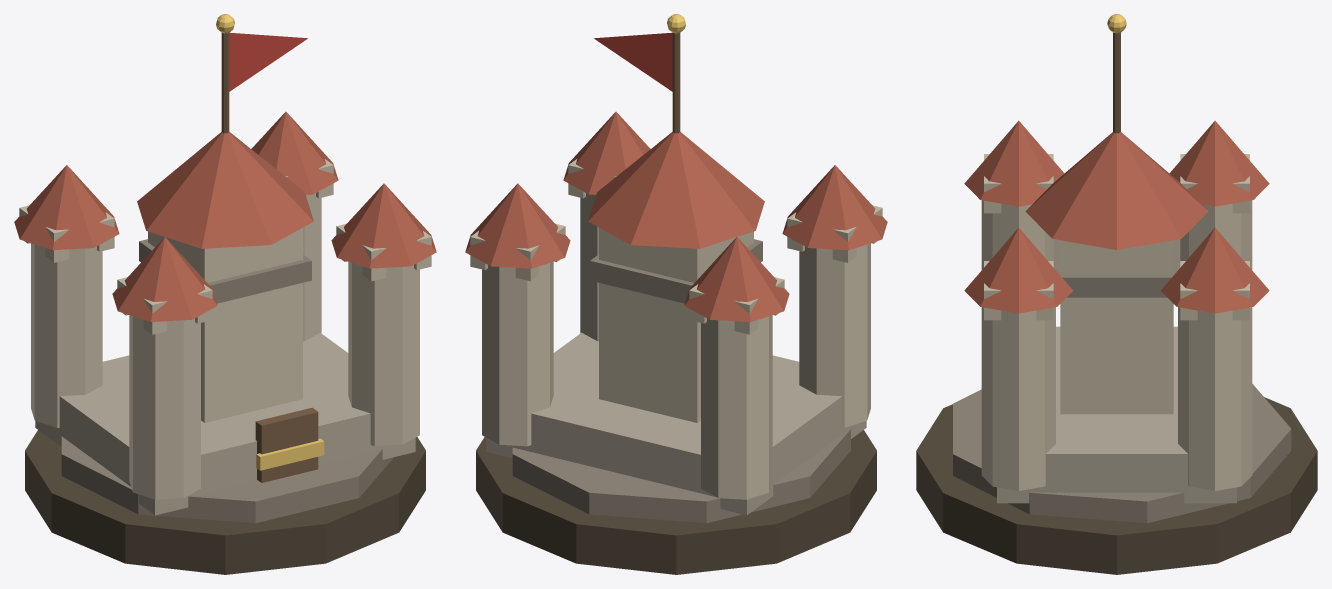
The model's file is marker_castle.glb.
The picture shows the model from 3 angles, left to right: view 1: azimuth 30°, elevation 25°; view 2: azimuth 150°, elevation 25°; view 3: azimuth 270°, elevation 25°; orthographic projection.
Visible parts, largest first — view 1: Castle_Base, Castle_Courtyard, Castle_Keep, Castle_KeepRoof, Castle_Tower_0, Castle_Tower_1, Castle_Tower_2, Castle_Rock, Castle_TowerRoof_0, Castle_TowerRoof_1, Castle_TowerRoof_2, Castle_TowerRoof_3 (+6 smaller); view 2: Castle_Base, Castle_Courtyard, Castle_Keep, Castle_KeepRoof, Castle_Tower_2, Castle_Tower_3, Castle_Tower_0, Castle_Rock, Castle_TowerRoof_2, Castle_TowerRoof_3, Castle_TowerRoof_0, Castle_TowerRoof_1 (+4 smaller); view 3: Castle_Base, Castle_Keep, Castle_KeepRoof, Castle_Courtyard, Castle_Tower_1, Castle_Tower_3, Castle_Rock, Castle_TowerRoof_1, Castle_TowerRoof_3, Castle_TowerRoof_0, Castle_TowerRoof_2, Castle_KeepBand (+3 smaller).
Boxes of the visible parts, left/top/right/bottom form: Castle_Base: left=25, top=430, right=425, bottom=574; Castle_Courtyard: left=35, top=332, right=415, bottom=515; Castle_Keep: left=148, top=228, right=302, bottom=422; Castle_KeepRoof: left=137, top=132, right=313, bottom=248; Castle_Tower_0: left=129, top=315, right=200, bottom=499; Castle_Tower_1: left=348, top=261, right=419, bottom=446; Castle_Tower_2: left=31, top=243, right=102, bottom=427; Castle_Rock: left=61, top=436, right=393, bottom=523; Castle_TowerRoof_0: left=112, top=237, right=217, bottom=321; Castle_TowerRoof_1: left=331, top=183, right=436, bottom=268; Castle_TowerRoof_2: left=14, top=165, right=119, bottom=250; Castle_TowerRoof_3: left=251, top=111, right=338, bottom=194; Castle_Base: left=476, top=430, right=876, bottom=574; Castle_Courtyard: left=486, top=332, right=866, bottom=515; Castle_Keep: left=599, top=228, right=753, bottom=422; Castle_KeepRoof: left=588, top=132, right=764, bottom=248; Castle_Tower_2: left=701, top=315, right=772, bottom=499; Castle_Tower_3: left=482, top=261, right=553, bottom=446; Castle_Tower_0: left=799, top=243, right=870, bottom=427; Castle_Rock: left=512, top=428, right=850, bottom=523; Castle_TowerRoof_2: left=684, top=237, right=789, bottom=321; Castle_TowerRoof_3: left=465, top=183, right=570, bottom=268; Castle_TowerRoof_0: left=782, top=165, right=887, bottom=250; Castle_TowerRoof_1: left=563, top=111, right=650, bottom=194; Castle_Base: left=916, top=397, right=1317, bottom=574; Castle_Keep: left=1060, top=240, right=1173, bottom=414; Castle_KeepRoof: left=1025, top=132, right=1208, bottom=249; Castle_Courtyard: left=997, top=326, right=1236, bottom=503; Castle_Tower_1: left=981, top=307, right=1055, bottom=490; Castle_Tower_3: left=1178, top=307, right=1252, bottom=490; Castle_Rock: left=953, top=384, right=1291, bottom=523; Castle_TowerRoof_1: left=964, top=227, right=1073, bottom=313; Castle_TowerRoof_3: left=1160, top=227, right=1269, bottom=313; Castle_TowerRoof_0: left=964, top=120, right=1064, bottom=206; Castle_TowerRoof_2: left=1169, top=120, right=1269, bottom=206; Castle_KeepBand: left=1053, top=239, right=1180, bottom=297.
Size of the model in its own units: 1.84 by 2.4 by 1.84.
